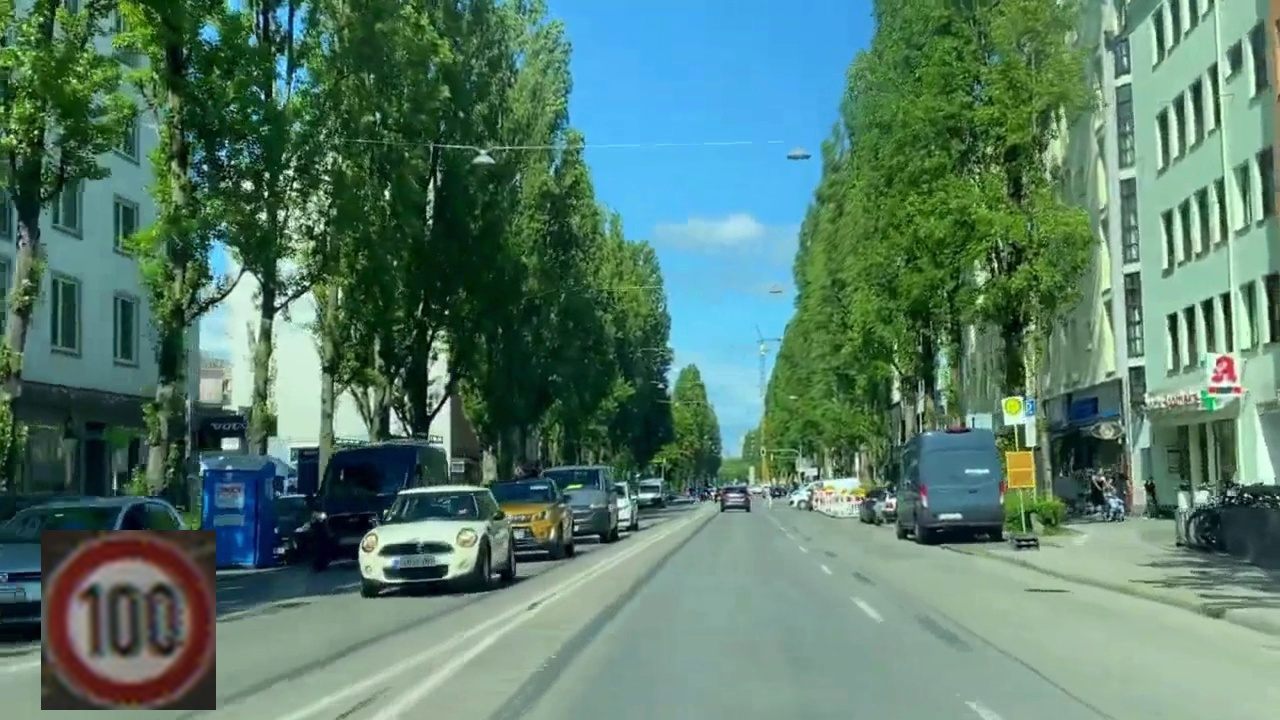Speed 100: (41, 530, 216, 710)
